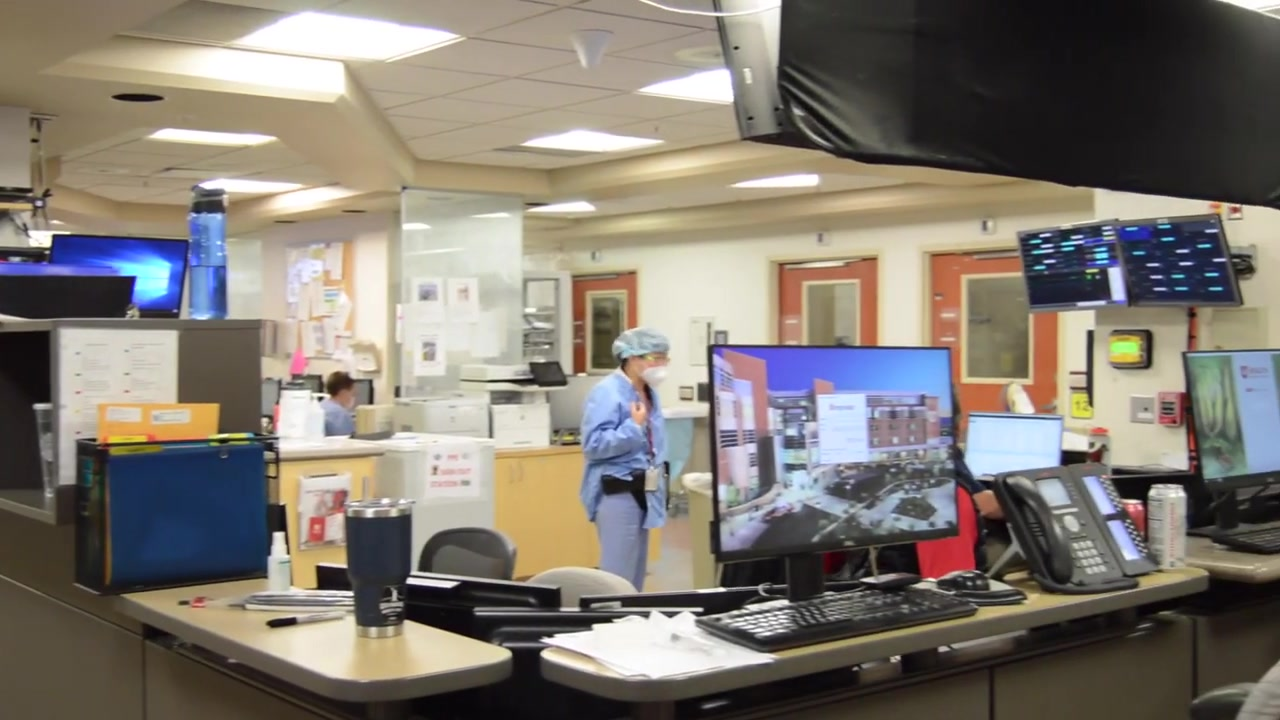TV: (1113, 213, 1244, 307), (49, 234, 189, 318), (1015, 217, 1129, 313)
chair: (416, 527, 517, 581), (524, 567, 639, 608)
computer: (707, 343, 960, 564), (315, 563, 561, 641), (1181, 348, 1280, 490), (963, 412, 1064, 481)
counter: (263, 435, 664, 561)
countertop: (539, 566, 1210, 703), (115, 578, 514, 702)
dispenser: (1158, 391, 1185, 428)
handle: (509, 462, 517, 483), (519, 459, 526, 482)
keyboard: (693, 587, 979, 654), (1213, 526, 1280, 555)
mouse: (935, 570, 990, 591)
press_to_open: (1129, 395, 1155, 424)
staff: (581, 326, 671, 591), (320, 371, 357, 437)
telephone: (995, 462, 1160, 595)
